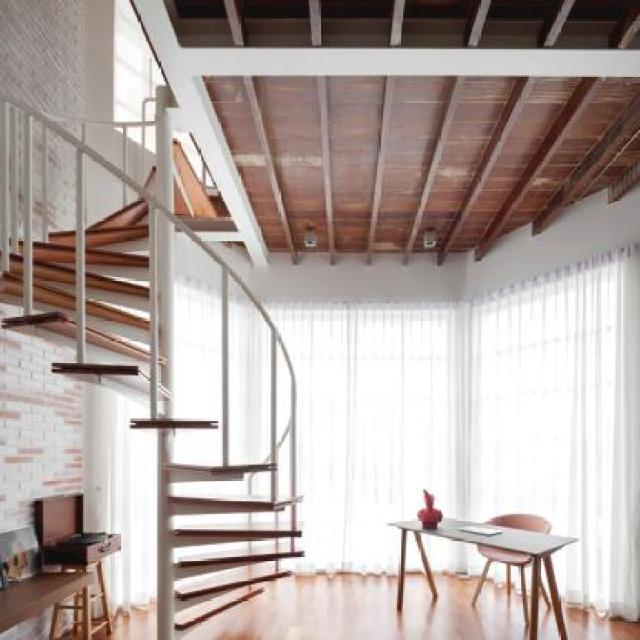stair: (18, 161, 314, 622)
